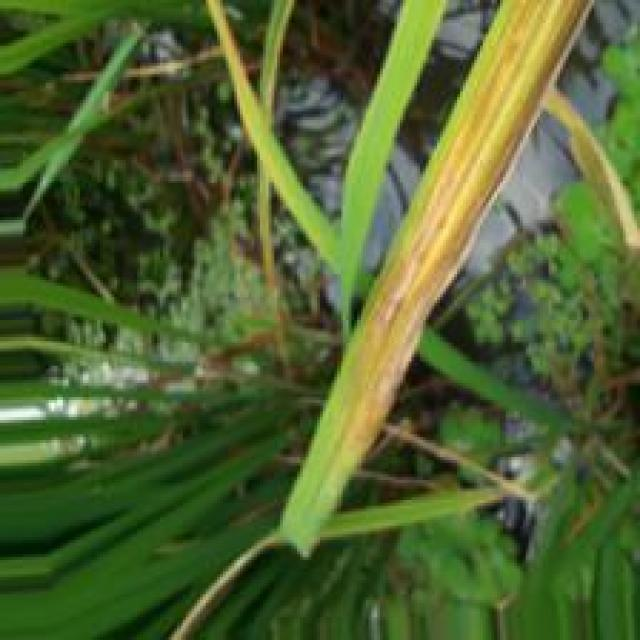Leaf_Scald: (347, 192, 497, 482)
